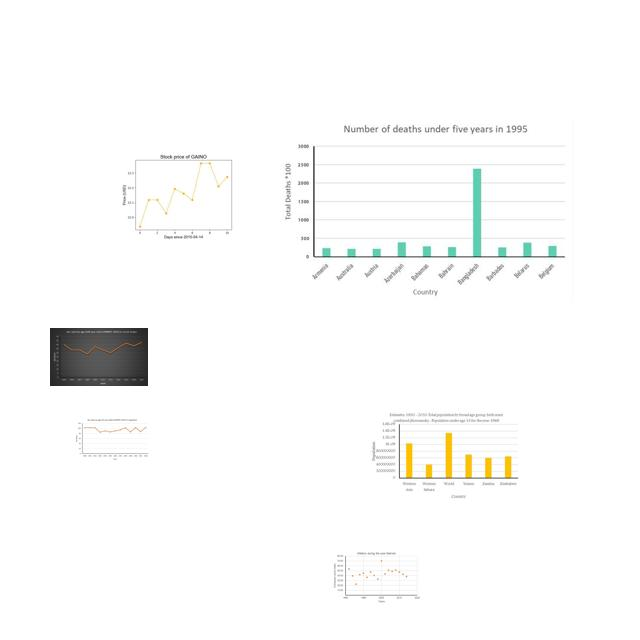Graph: (278, 119, 573, 303), (371, 412, 521, 500), (120, 148, 244, 241), (50, 328, 148, 386), (333, 551, 420, 603), (74, 417, 150, 462)
